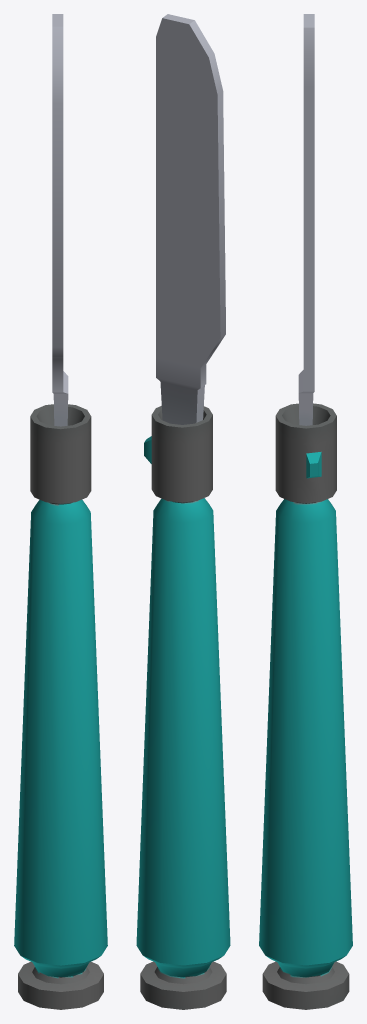
File: knife 1.fbx
3 renders of one model, left to right at view 1: azimuth 90°, elevation 25°; view 2: azimuth 150°, elevation 25°; view 3: azimuth 270°, elevation 25°, orthographic.
Parts seen in each view (by area): view 1: knife; view 2: knife; view 3: knife.
Boxes of the visible parts, x1,y1,x2,y2 form: knife: [14, 14, 107, 1009]; knife: [136, 14, 230, 1009]; knife: [259, 14, 352, 1009].
Bounding box in the file's own units: 4.74 × 53.62 × 4.7.
